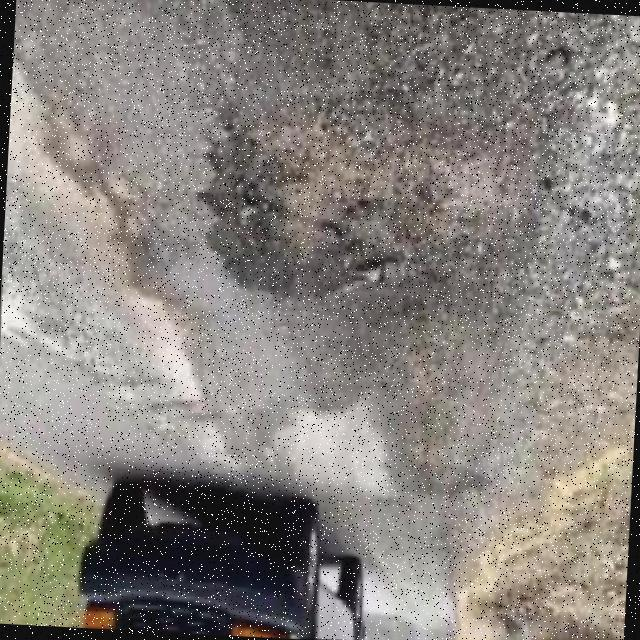Pothole: (199, 122, 430, 298)
